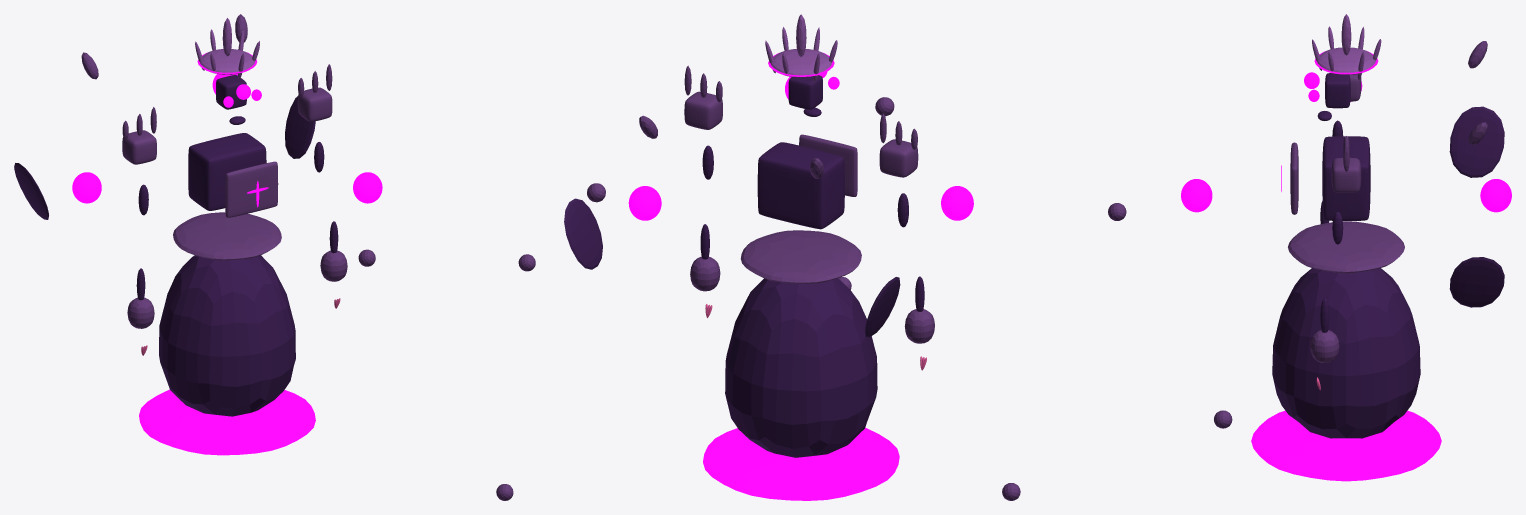
Rendered from SM_LW_CorruptionSovereign.fbx.
3 views of the same model, side by side, from view 1: azimuth 30°, elevation 25°; view 2: azimuth 150°, elevation 25°; view 3: azimuth 270°, elevation 25° (orthographic). The views are drawn at different scales.
Visible parts, largest first — view 1: SM_LW_CorruptionSovereign_RobeBase, SM_LW_CorruptionSovereign_RobeTrim, SM_LW_CorruptionSovereign_Belt, SM_LW_CorruptionSovereign, SM_LW_CorruptionSovereign_Torso, SM_LW_CorruptionSovereign_ChestPlate, SM_LW_CorruptionSovereign_Wing_L, SM_LW_CorruptionSovereign_Pauldron_L, SM_LW_CorruptionSovereign_Pauldron_R, SM_LW_CorruptionSovereign_CrownRing, SM_LW_CorruptionSovereign_Wing_R, SM_LW_CorruptionSovereign_Head (+2 smaller); view 2: SM_LW_CorruptionSovereign_RobeBase, SM_LW_CorruptionSovereign_RobeTrim, SM_LW_CorruptionSovereign_Torso, SM_LW_CorruptionSovereign_Belt, SM_LW_CorruptionSovereign, SM_LW_CorruptionSovereign_Wing_L, SM_LW_CorruptionSovereign_ChestPlate, SM_LW_CorruptionSovereign_Pauldron_L, SM_LW_CorruptionSovereign_Pauldron_R, SM_LW_CorruptionSovereign_CrownRing, SM_LW_CorruptionSovereign_Wing_R, SM_LW_CorruptionSovereign_Head (+2 smaller); view 3: SM_LW_CorruptionSovereign_RobeBase, SM_LW_CorruptionSovereign_RobeTrim, SM_LW_CorruptionSovereign_Belt, SM_LW_CorruptionSovereign, SM_LW_CorruptionSovereign_Torso, SM_LW_CorruptionSovereign_Wing_R, SM_LW_CorruptionSovereign_Wing_L, SM_LW_CorruptionSovereign_CrownRing, SM_LW_CorruptionSovereign_Pauldron_L, SM_LW_CorruptionSovereign_Head, SM_LW_CorruptionSovereign_Gauntlet_L, SM_LW_CorruptionSovereign_ChestPlate.
Part boxes in pixels (<box>): SM_LW_CorruptionSovereign_RobeBase: <box>159,255,295,416</box>; SM_LW_CorruptionSovereign_RobeTrim: <box>139,389,315,455</box>; SM_LW_CorruptionSovereign_Belt: <box>173,212,281,260</box>; SM_LW_CorruptionSovereign: <box>72,29,535,500</box>; SM_LW_CorruptionSovereign_Torso: <box>188,133,266,210</box>; SM_LW_CorruptionSovereign_ChestPlate: <box>225,161,278,217</box>; SM_LW_CorruptionSovereign_Wing_L: <box>285,96,315,158</box>; SM_LW_CorruptionSovereign_Pauldron_L: <box>297,87,332,121</box>; SM_LW_CorruptionSovereign_Pauldron_R: <box>122,130,156,164</box>; SM_LW_CorruptionSovereign_CrownRing: <box>200,49,255,74</box>; SM_LW_CorruptionSovereign_Wing_R: <box>14,163,48,219</box>; SM_LW_CorruptionSovereign_Head: <box>216,75,246,109</box>; SM_LW_CorruptionSovereign_RobeBase: <box>725,278,877,457</box>; SM_LW_CorruptionSovereign_RobeTrim: <box>703,427,899,500</box>; SM_LW_CorruptionSovereign_Torso: <box>757,142,844,229</box>; SM_LW_CorruptionSovereign_Belt: <box>740,230,861,283</box>; SM_LW_CorruptionSovereign: <box>587,27,973,370</box>; SM_LW_CorruptionSovereign_Wing_L: <box>564,198,602,269</box>; SM_LW_CorruptionSovereign_ChestPlate: <box>799,134,857,196</box>; SM_LW_CorruptionSovereign_Pauldron_L: <box>684,91,722,129</box>; SM_LW_CorruptionSovereign_Pauldron_R: <box>879,139,918,177</box>; SM_LW_CorruptionSovereign_CrownRing: <box>770,49,832,77</box>; SM_LW_CorruptionSovereign_Wing_R: <box>865,277,900,337</box>; SM_LW_CorruptionSovereign_Head: <box>788,75,822,109</box>; SM_LW_CorruptionSovereign_RobeBase: <box>1272,268,1420,438</box>; SM_LW_CorruptionSovereign_RobeTrim: <box>1251,410,1441,481</box>; SM_LW_CorruptionSovereign_Belt: <box>1288,221,1404,273</box>; SM_LW_CorruptionSovereign: <box>1002,26,1511,500</box>; SM_LW_CorruptionSovereign_Torso: <box>1322,136,1370,220</box>; SM_LW_CorruptionSovereign_Wing_R: <box>1449,106,1504,177</box>; SM_LW_CorruptionSovereign_Wing_L: <box>1449,257,1504,307</box>; SM_LW_CorruptionSovereign_CrownRing: <box>1317,47,1375,74</box>; SM_LW_CorruptionSovereign_Pauldron_L: <box>1331,157,1361,192</box>; SM_LW_CorruptionSovereign_Head: <box>1325,73,1350,108</box>; SM_LW_CorruptionSovereign_Gauntlet_L: <box>1310,330,1339,362</box>; SM_LW_CorruptionSovereign_ChestPlate: <box>1290,142,1298,214</box>.
Size of the model in its own units: 2.29 by 2.36 by 2.21.
